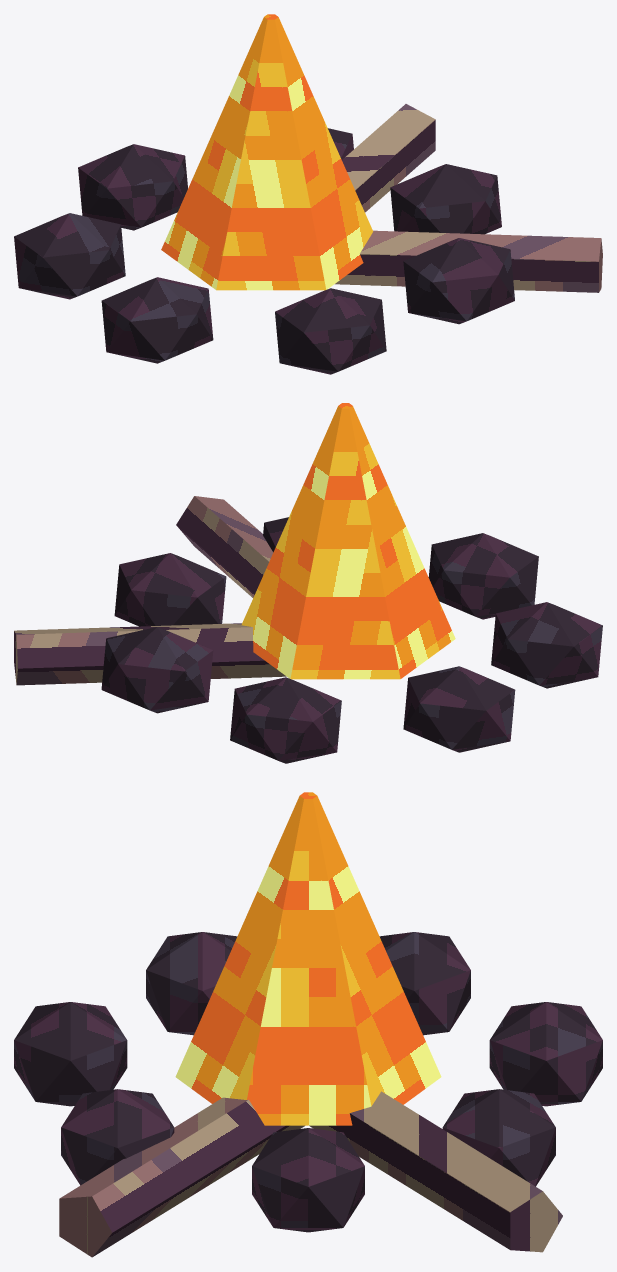
File: ultimo_posto_fogueira.glb
3 renders of one model, top to bottom at view 1: azimuth 30°, elevation 25°; view 2: azimuth 150°, elevation 25°; view 3: azimuth 270°, elevation 25°, orthographic. The views are drawn at different scales.
Parts seen in each view (by area): view 1: ultimo_posto_fogueira; view 2: ultimo_posto_fogueira; view 3: ultimo_posto_fogueira.
Part boxes in pixels (x1,y1,x2,y2): ultimo_posto_fogueira: (14,14,602,374); ultimo_posto_fogueira: (14,403,602,763); ultimo_posto_fogueira: (14,792,602,1257).
Bounding box in the file's own units: 1.44 × 0.83 × 1.33.
3 materials, 3 textured.
